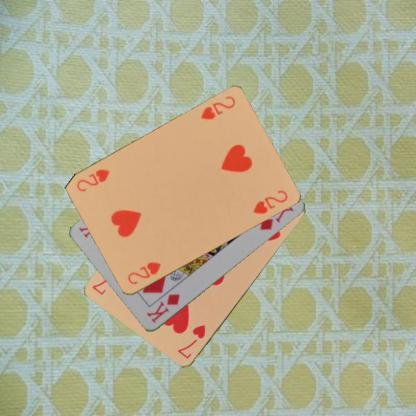2h: (198, 94, 236, 122), (125, 259, 162, 286)
7h: (175, 323, 207, 360)
Kd: (144, 291, 182, 325)
